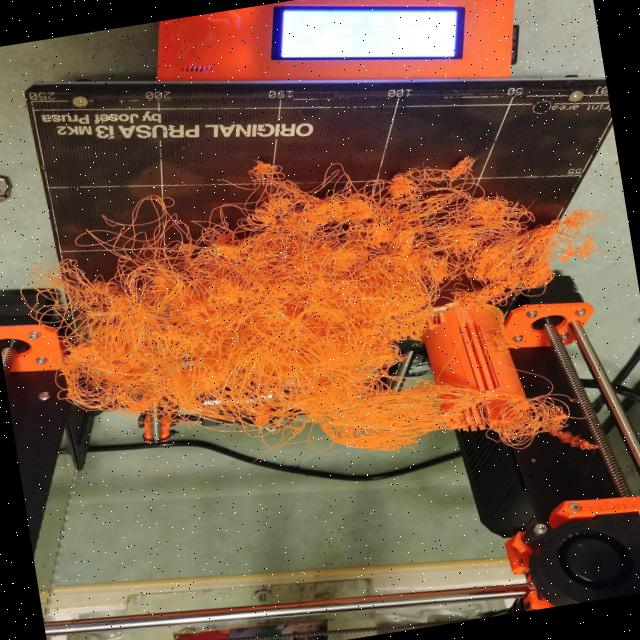spaghetti: (9, 110, 614, 536)
